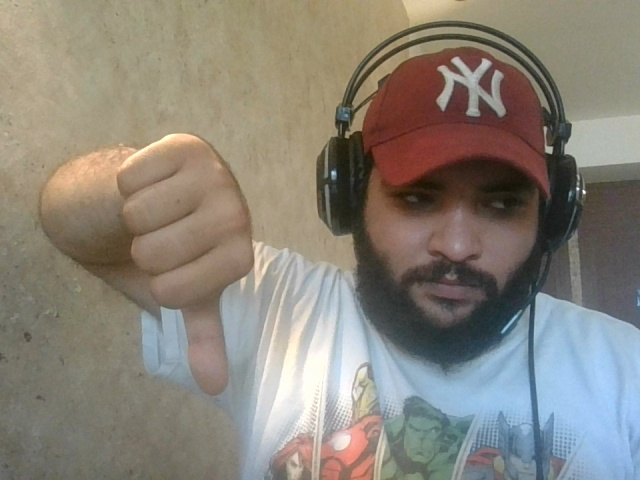no: (106, 128, 257, 395)
